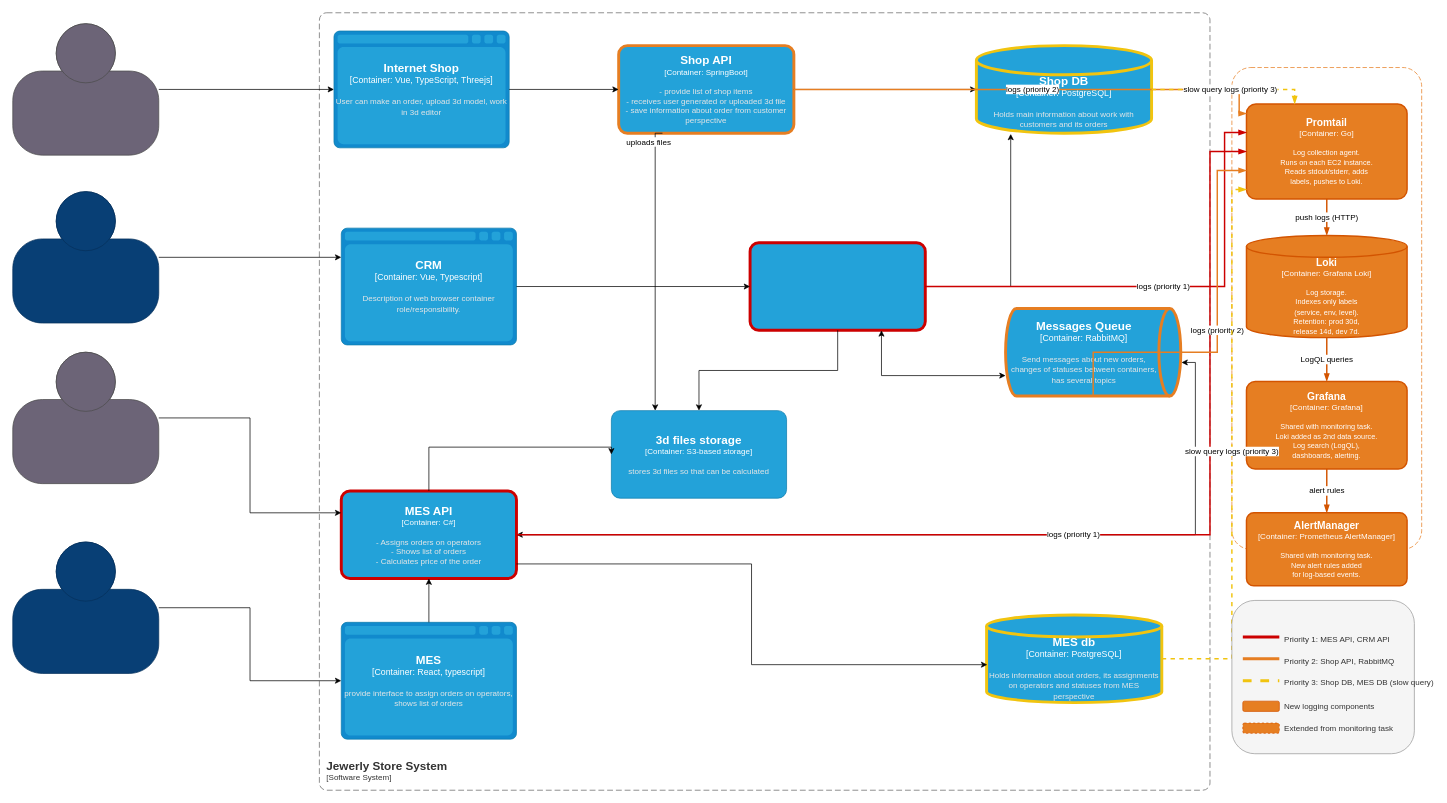
Image size: 1447x803. Some labels were removed from this diagram. The shapes that lost their labels are listed below. From the top down, each one's box as (x1, y1, x2, y2) in pixels, then its label:
(12, 23, 159, 155): Customer [Person] Description of external person.
(12, 191, 159, 323): Seller [Person] Operates with order, confirms manufacturing for the user
(748, 241, 926, 331): CRM API [Container: SpringBoot] Description of container role/responsibility.
(1231, 67, 1422, 549): Logging Stack
(12, 351, 159, 484): API user [Person] Description of external person.
(12, 541, 159, 673): Operator [Person] Takes order in work, manufactures jewerly
(1231, 600, 1414, 754): Logging: sources by priority
